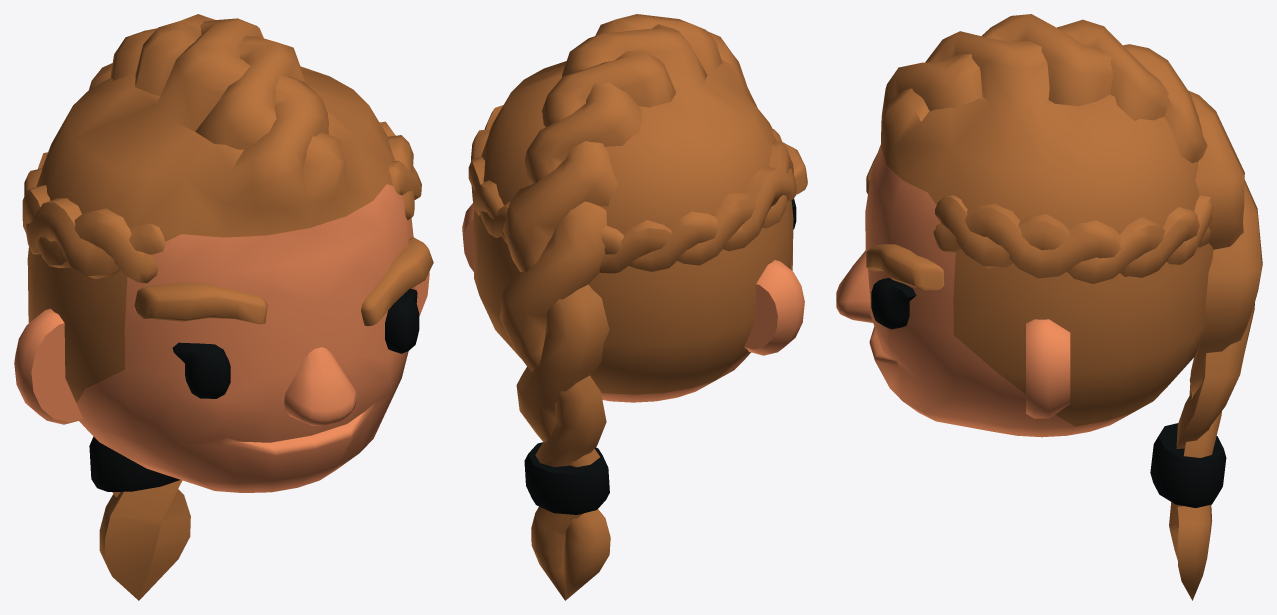
File: vikingFemaleHeadB.obj
The picture shows the model from 3 angles, left to right: view 1: azimuth 30°, elevation 25°; view 2: azimuth 150°, elevation 25°; view 3: azimuth 270°, elevation 25°; orthographic projection. The views are drawn at different scales.
Parts seen in each view (by area): view 1: vikingFemaleHeadB_Cube.4991; view 2: vikingFemaleHeadB_Cube.4991; view 3: vikingFemaleHeadB_Cube.4991.
Boxes of the visible parts, box(x1,y1,x2,y2) form: vikingFemaleHeadB_Cube.4991: box(14, 14, 433, 600); vikingFemaleHeadB_Cube.4991: box(462, 14, 807, 600); vikingFemaleHeadB_Cube.4991: box(836, 14, 1262, 600).
Bounding box in the file's own units: 1.18 × 1.74 × 1.17.
